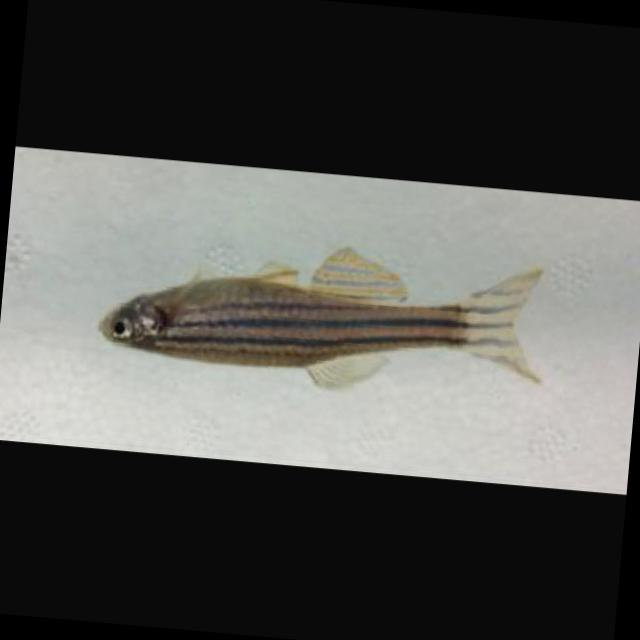ZebraFish: (92, 232, 544, 404)
